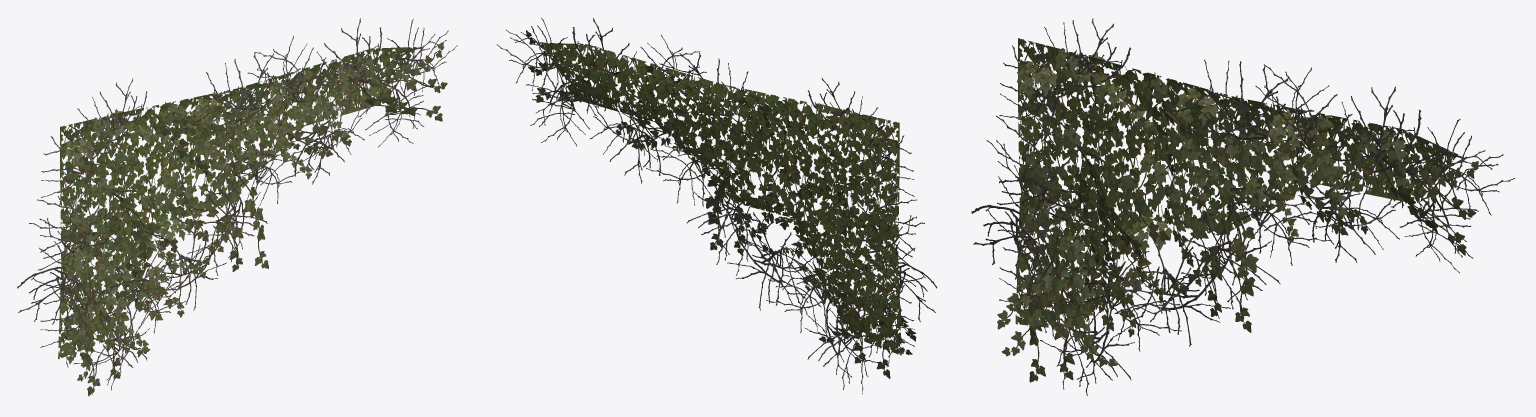
The model's file is ivy03lod0.dae.
3 views of the same model, side by side, from view 1: azimuth 30°, elevation 25°; view 2: azimuth 150°, elevation 25°; view 3: azimuth 330°, elevation 25° (orthographic). The views are drawn at different scales.
Visible parts, largest first — view 1: SM_Ivy_Corner_03_LOD; view 2: SM_Ivy_Corner_03_LOD; view 3: SM_Ivy_Corner_03_LOD.
Boxes of the visible parts, x1,y1,x2,y2 form: SM_Ivy_Corner_03_LOD: (17,18,457,396); SM_Ivy_Corner_03_LOD: (496,18,937,394); SM_Ivy_Corner_03_LOD: (971,18,1514,395).
Size of the model in its own units: 4.3 by 2.99 by 0.3442.
